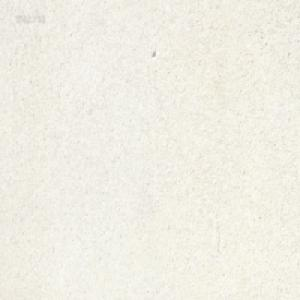Wrench: (194, 0, 201, 5)
